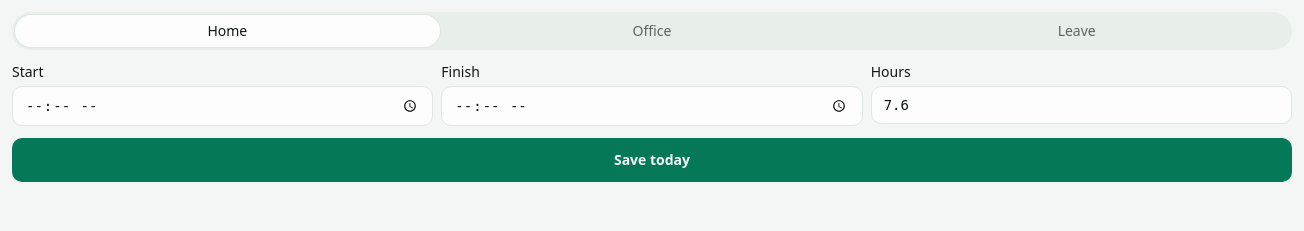
Test: DayEditor › saving › drops the error once the form is edited
Type "08:30" into the time field labelled "Start".
click(223, 106); type("08:30")  # box x1=12 y1=86 x2=433 y2=126
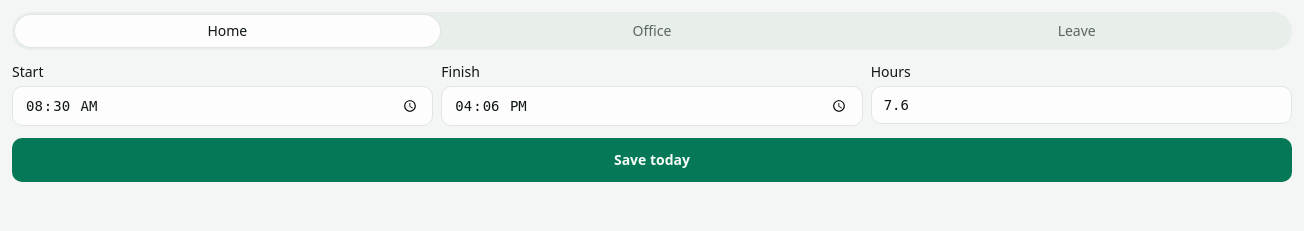
Click the button "Save today".
click(652, 160)  # box x1=12 y1=138 x2=1292 y2=182
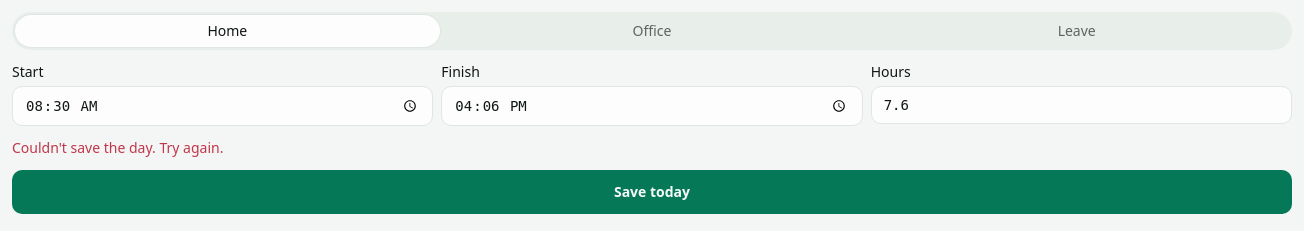
Expected: the message "Couldn't save the day. Try again." is shown, x1=12 y1=138 x2=223 y2=157
Replace the text in the time field labelled "Finish" with "17:00" at {"x": 652, "y": 106}, box x1=441 y1=86 x2=863 y2=126
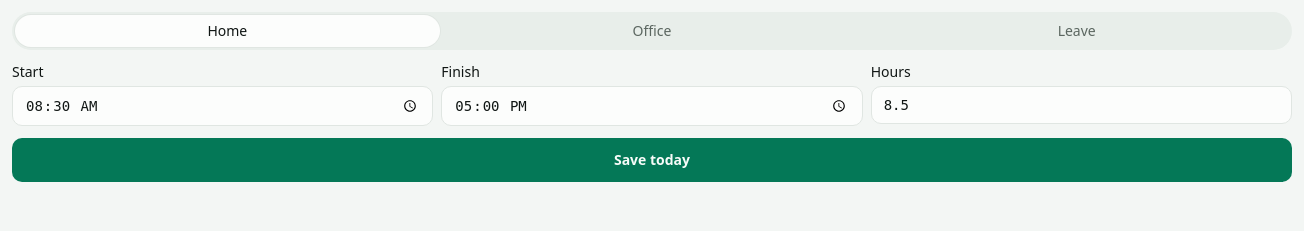
Expected: the text "Couldn't save the day. Try again." is gone
